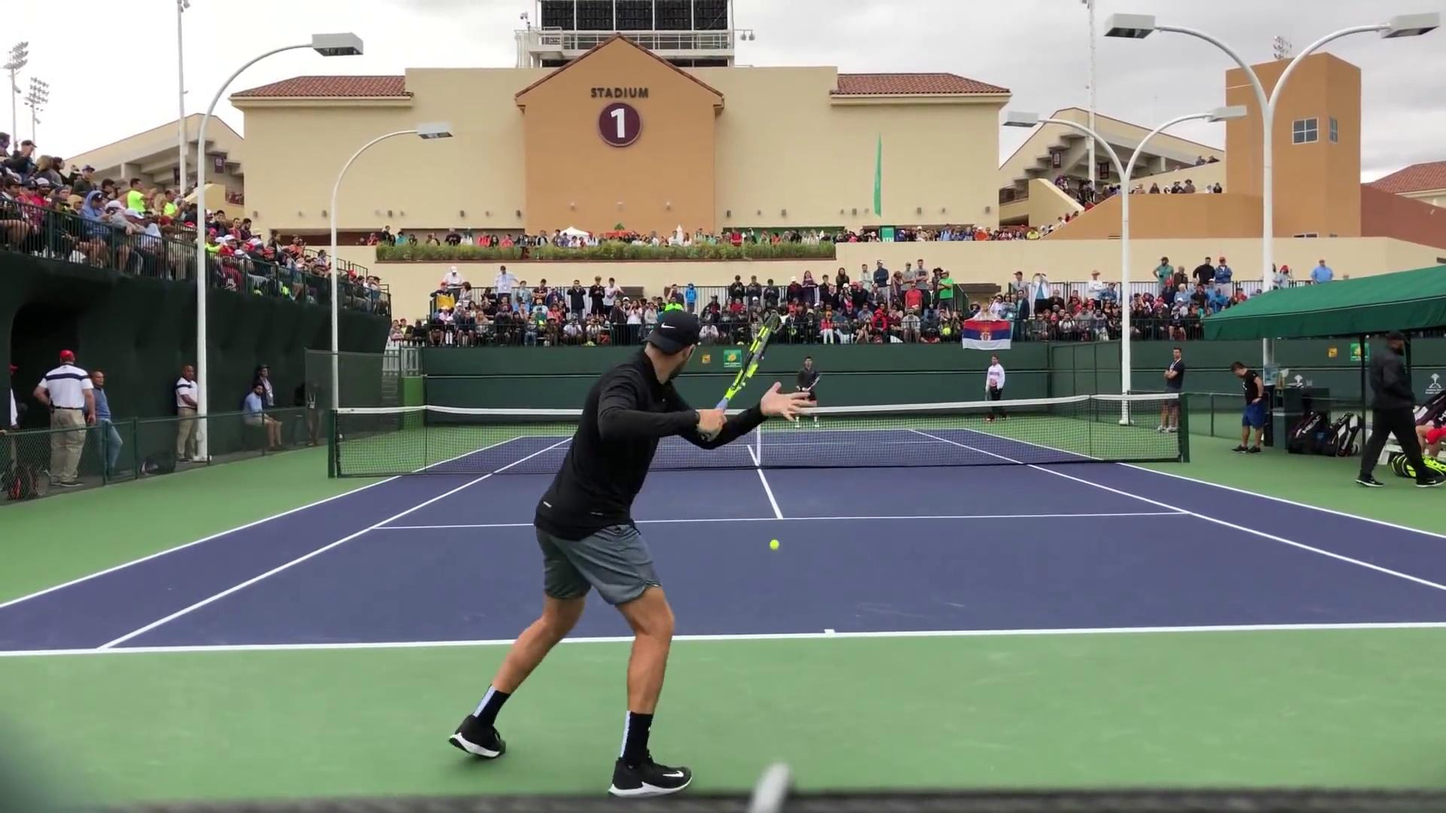ball: (768, 536, 782, 550)
